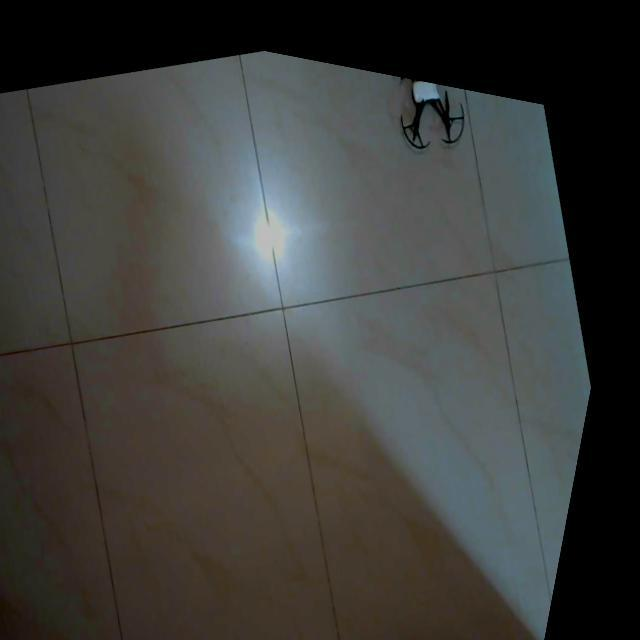drone: (395, 59, 465, 131)
